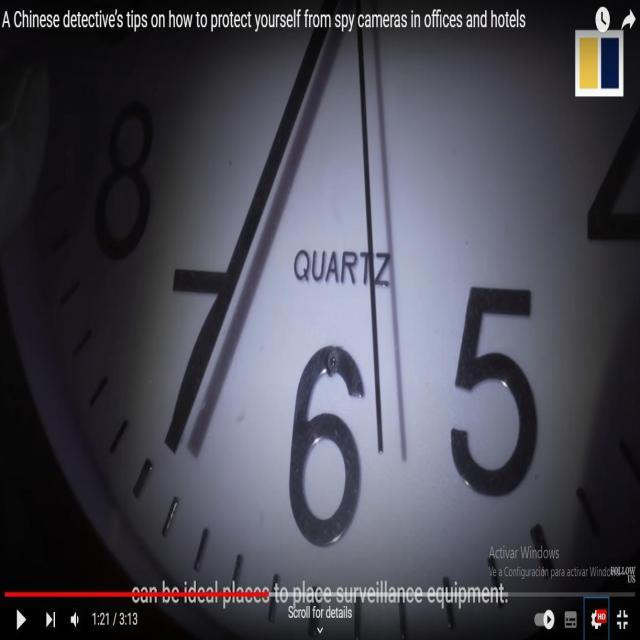hidden camera: (324, 341, 343, 382)
